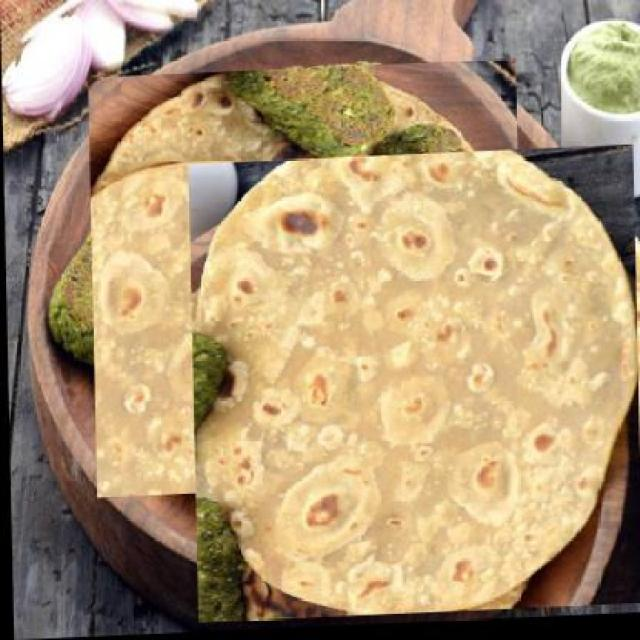chapati: (183, 152, 639, 623), (89, 61, 523, 502)
